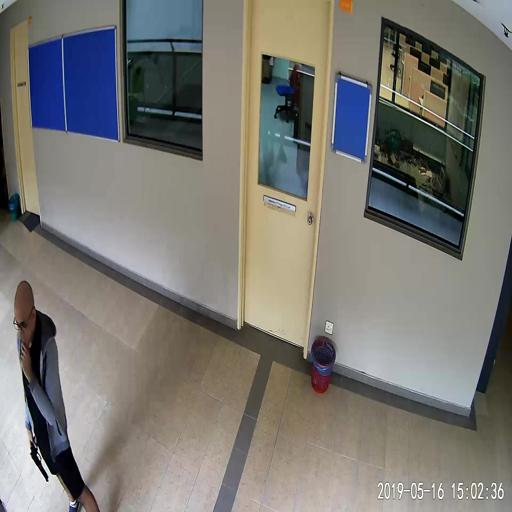pistol: (30, 443, 47, 480)
